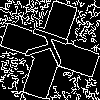K: (25, 25, 79, 71)
